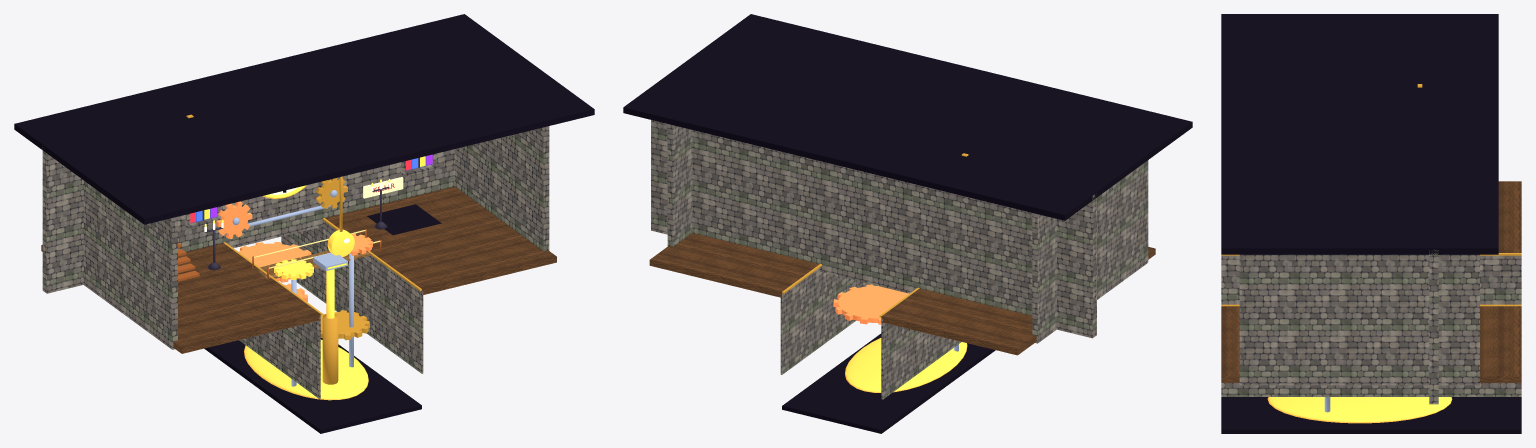
File: uhrwerk.glb
3 views of the same model, side by side, from view 1: azimuth 30°, elevation 25°; view 2: azimuth 150°, elevation 25°; view 3: azimuth 270°, elevation 25° (orthographic). The views are drawn at different scales.
Parts seen in each view (by area): view 1: Decke.001, Rueckwand.001, BodenRechts.001, Seitenwand-1.001, BodenLinks.001, Seitenwand1.001, Abbruch1.001, Abgrund.001, Abbruch-1.001, GlutTief.001, KellerLoch.001, ZahnradTief2.001 (+6 smaller); view 2: Decke.001, Rueckwand.001, Seitenwand-1.001, Abgrund.001, BodenLinks.001, BodenRechts.001, Abbruch1.001, Abbruch-1.001, Seitenwand1.001, GlutTief.001, ZahnradTief2.001; view 3: Decke.001, Seitenwand1.001, Abgrund.001, BodenRechts.001, GlutTief.001, Abbruch1.001, Abbruch-1.001, BodenLinks.001, Rueckwand.001.
Boxes of the visible parts, x1,y1,x2,y2 form: Decke.001: [14, 14, 594, 224]; Rueckwand.001: [42, 147, 454, 293]; BodenRechts.001: [325, 186, 556, 294]; Seitenwand-1.001: [83, 180, 177, 349]; BodenLinks.001: [41, 243, 320, 353]; Seitenwand1.001: [455, 126, 549, 251]; Abbruch1.001: [281, 221, 423, 373]; Abgrund.001: [204, 338, 421, 433]; Abbruch-1.001: [239, 316, 320, 398]; GlutTief.001: [244, 339, 368, 400]; KellerLoch.001: [367, 204, 441, 235]; ZahnradTief2.001: [239, 242, 311, 282]; Decke.001: [623, 14, 1192, 220]; Rueckwand.001: [651, 120, 1096, 338]; Seitenwand-1.001: [1032, 160, 1148, 343]; Abgrund.001: [782, 333, 995, 433]; BodenLinks.001: [881, 247, 1155, 355]; BodenRechts.001: [649, 233, 819, 297]; Abbruch1.001: [780, 267, 876, 374]; Abbruch-1.001: [881, 318, 961, 399]; Seitenwand1.001: [667, 124, 692, 246]; GlutTief.001: [845, 338, 967, 392]; ZahnradTief2.001: [833, 284, 908, 324]; Decke.001: [1221, 14, 1498, 254]; Seitenwand1.001: [1239, 254, 1479, 385]; Abgrund.001: [1221, 397, 1521, 433]; BodenRechts.001: [1221, 306, 1521, 382]; GlutTief.001: [1267, 397, 1452, 423]; Abbruch1.001: [1221, 383, 1521, 396]; Abbruch-1.001: [1221, 255, 1521, 304]; BodenLinks.001: [1498, 181, 1521, 252]; Rueckwand.001: [1429, 249, 1438, 404].
Bounding box in the file's own units: 24 × 13.2 × 13.
33 materials, 3 textured.
